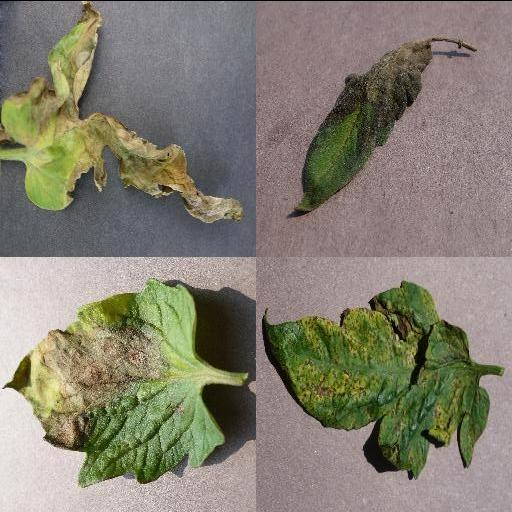Late Blight: (0, 1, 244, 224), (4, 276, 226, 486), (287, 36, 433, 220)
Septoria: (261, 278, 491, 480)
